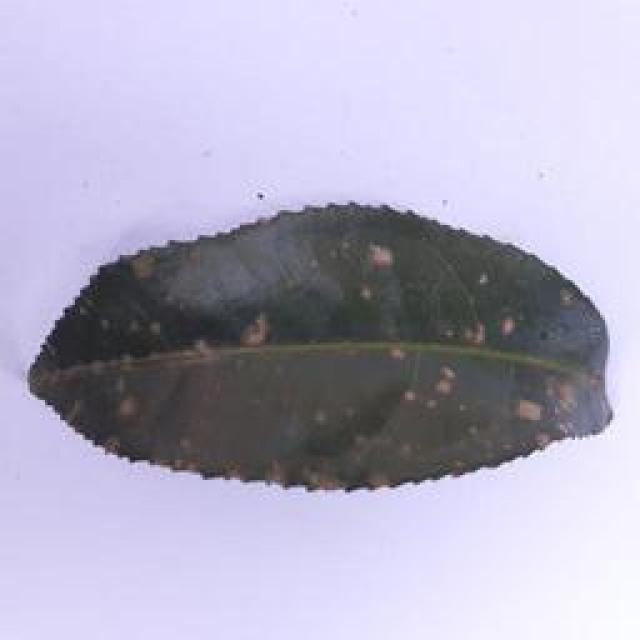Algal Leaf Spot: (12, 193, 614, 492)
